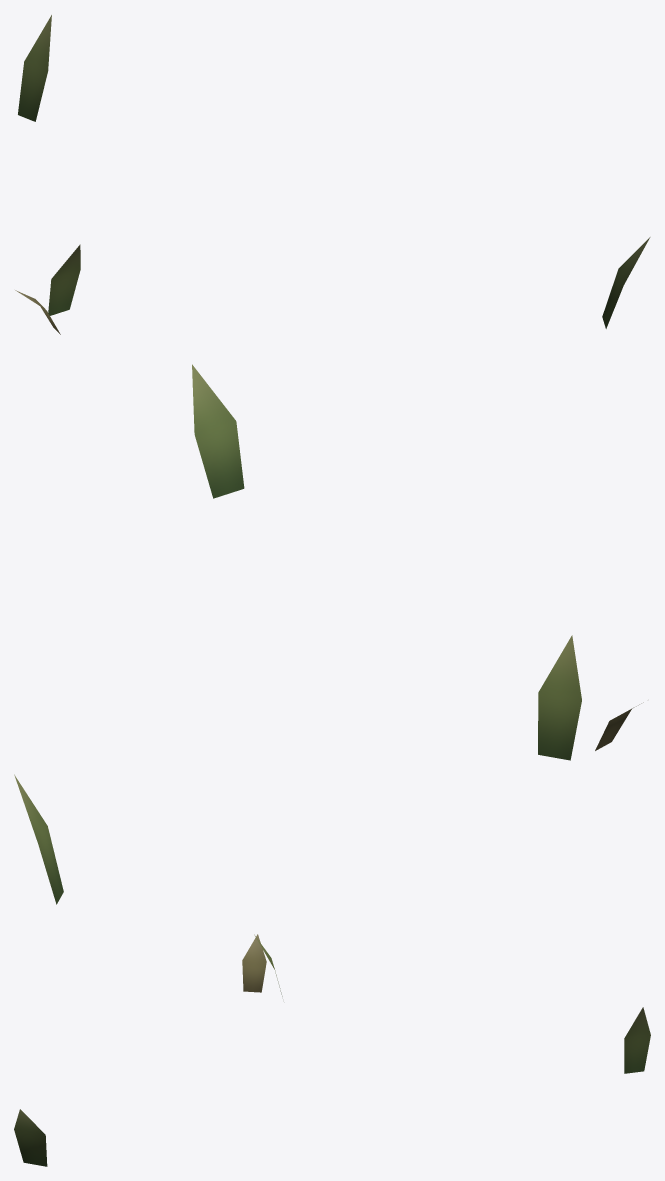
File: woodland_undergrass_far.gltf
3 views of the same model, one above another, from view 1: azimuth 30°, elevation 25°; view 2: azimuth 150°, elevation 25°; view 3: azimuth 270°, elevation 25° (orthographic). The views are drawn at different scales.
Visible parts, largest first — view 1: woodland_undergrass_far; view 2: woodland_undergrass_far; view 3: woodland_undergrass_far.
Boxes of the visible parts, x1=… form: woodland_undergrass_far: x1=15, y1=15, x2=650, y2=334; woodland_undergrass_far: x1=14, y1=364, x2=643, y2=904; woodland_undergrass_far: x1=14, y1=934, x2=650, y2=1166.
Size of the model in its own units: 0.5844 by 0.1044 by 0.768.
2 materials, 2 textured.
